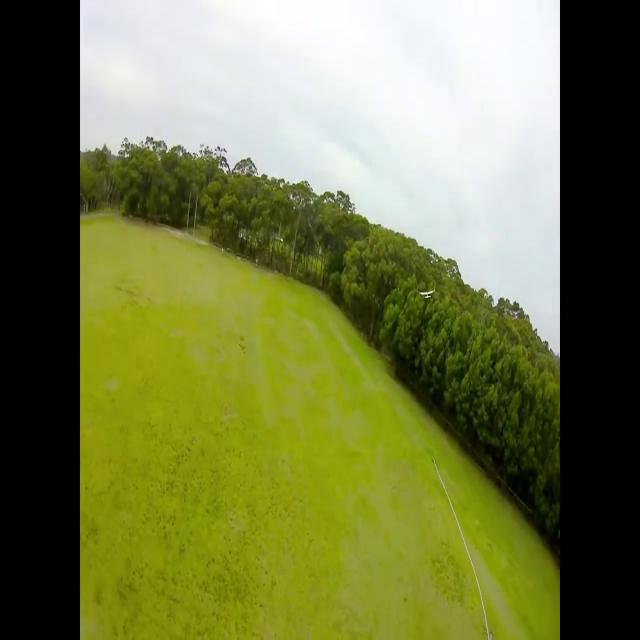iha: (421, 293, 434, 295)
